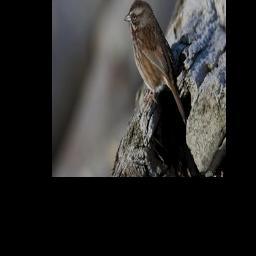Sparrow: (123, 0, 187, 126)
